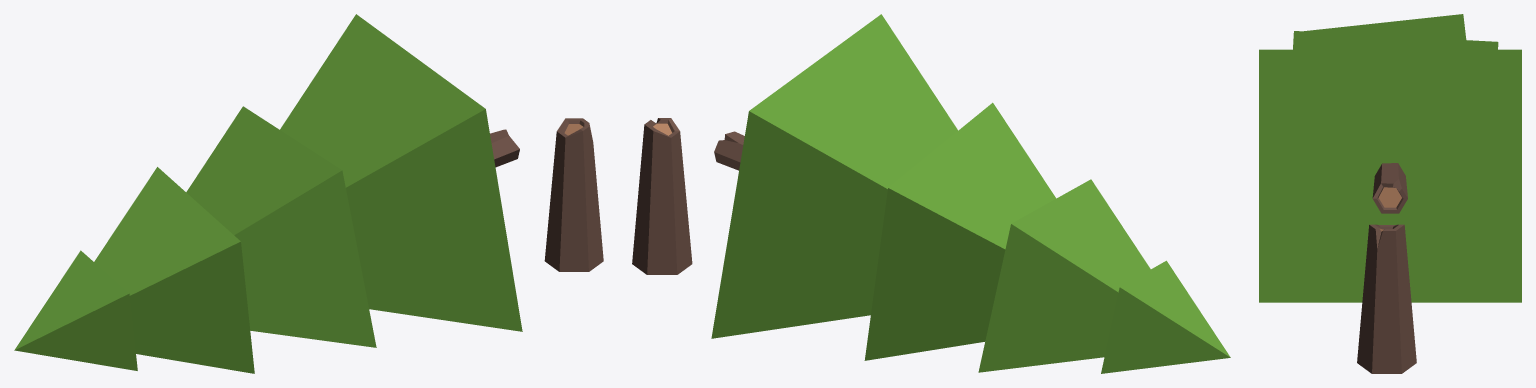
The model's file is FallenTree_04.fbx.
3 views of the same model, side by side, from view 1: azimuth 30°, elevation 25°; view 2: azimuth 150°, elevation 25°; view 3: azimuth 270°, elevation 25° (orthographic). The views are drawn at different scales.
Visible parts, largest first — view 1: FallenTree_04; view 2: FallenTree_04; view 3: FallenTree_04.
Part boxes in pixels (left/top/right/bottom): FallenTree_04: left=14, top=14, right=603, bottom=373; FallenTree_04: left=632, top=14, right=1230, bottom=373; FallenTree_04: left=1259, top=14, right=1521, bottom=373.
Bounding box in the file's own units: 889 × 347 × 344.
